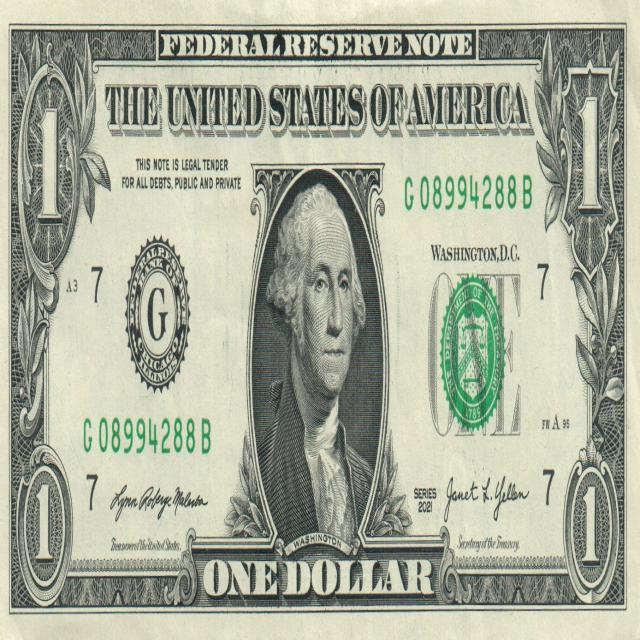SerialNumber: (84, 418, 210, 454), (405, 175, 531, 210)
